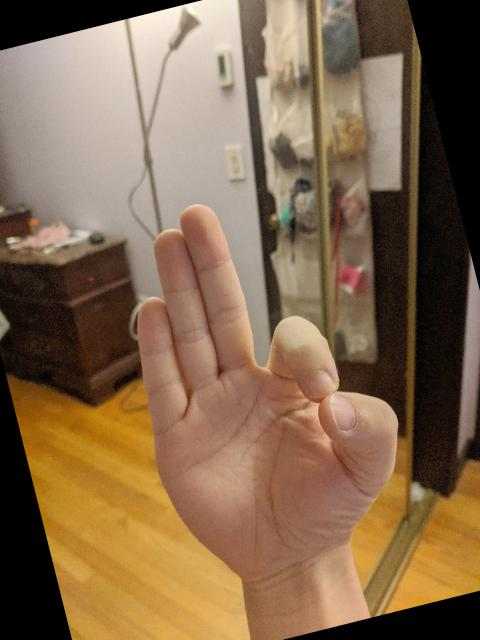F: (91, 163, 434, 606)
